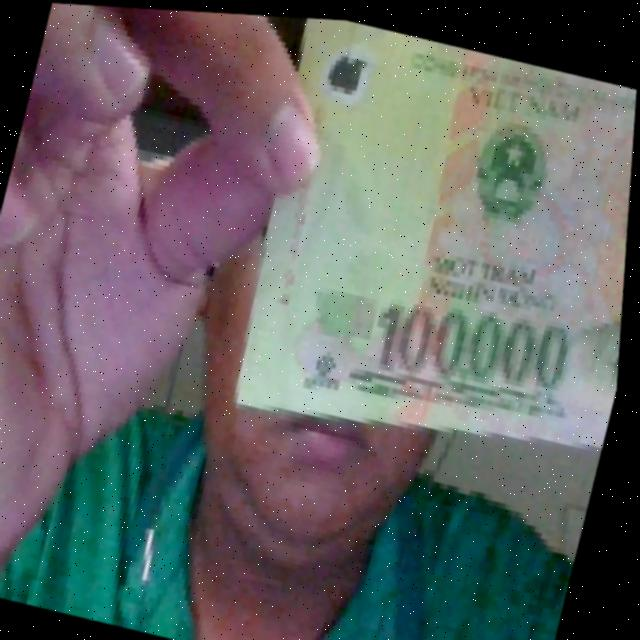100 000 VND: (204, 11, 640, 480)
